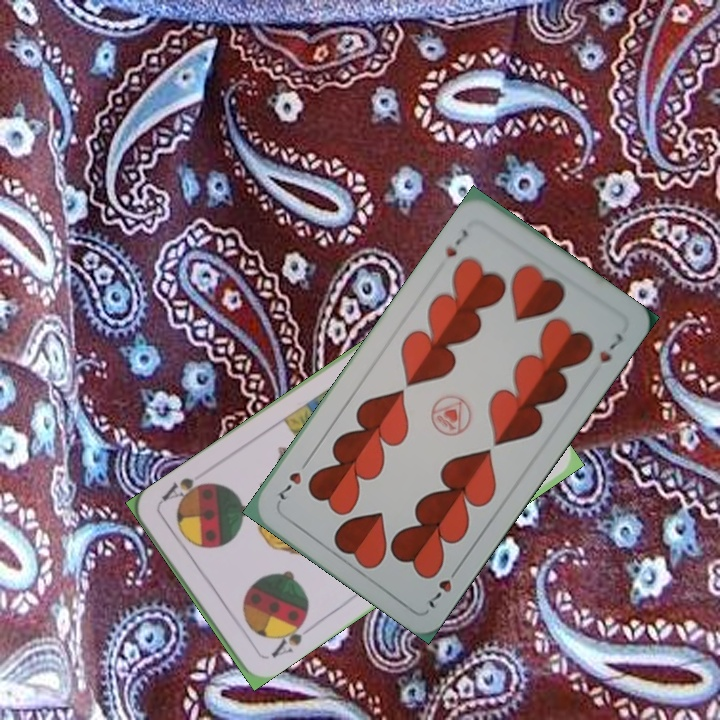H7: (424, 561, 464, 612), (441, 225, 472, 260)
SA: (267, 616, 314, 661)
